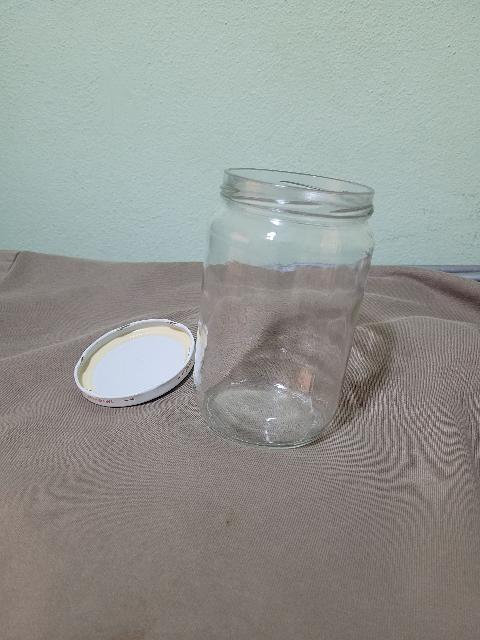Cam: (195, 160, 381, 447)
Metal: (73, 319, 202, 405)
